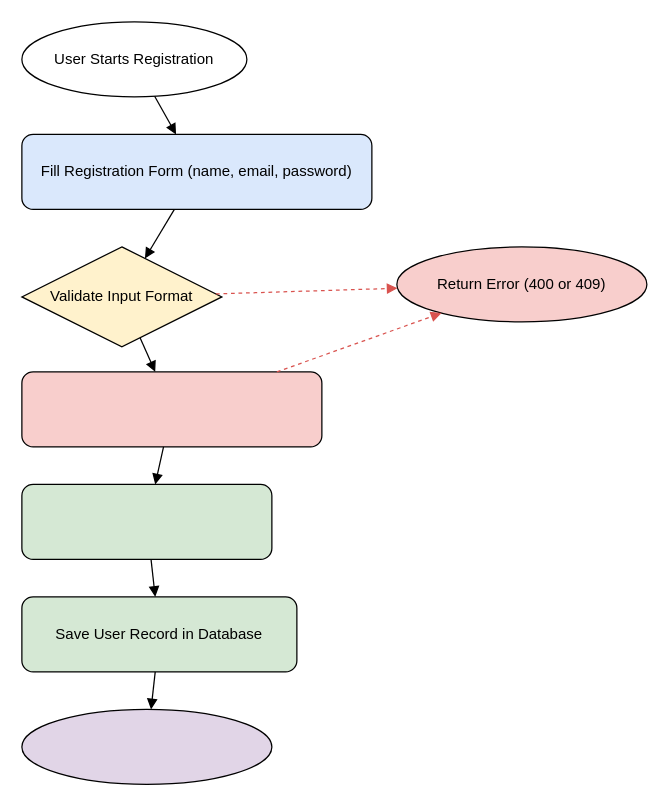
This 669x806 diagram has some shape labels left out. The centre of each missing label's shape, as x and y in pixels:
Check if Email Already Exists in DB: [171,409]
Hash Password Securely: [146,521]
Return Success (201 Created): [146,746]
